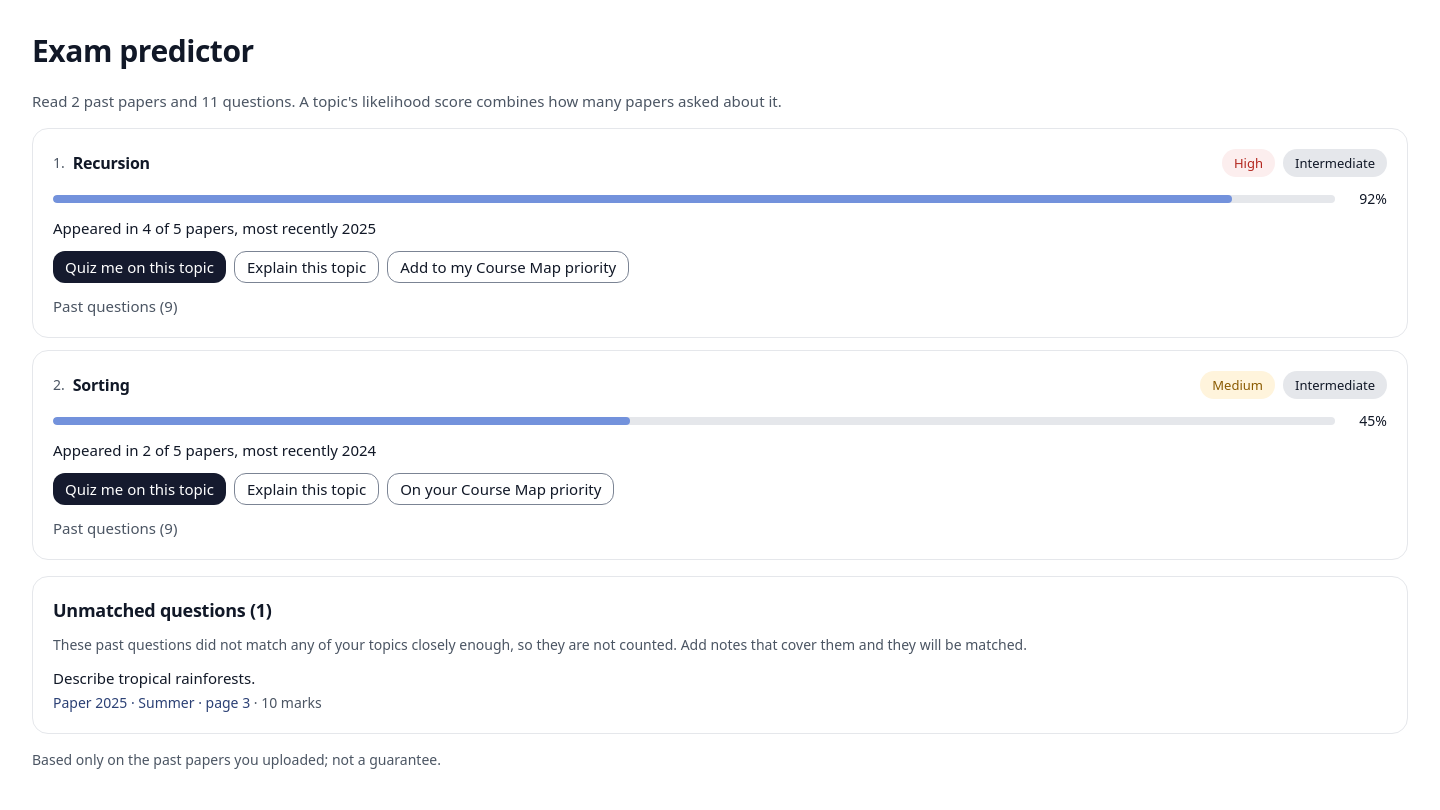
Scenario: ExamPredictorView › shows the real past questions as evidence, with a link to the paper
This screenshot has width=1440, height=810.
Click the button "Past questions (9)" below "Recursion" at (115, 306), box [53, 295, 178, 317]
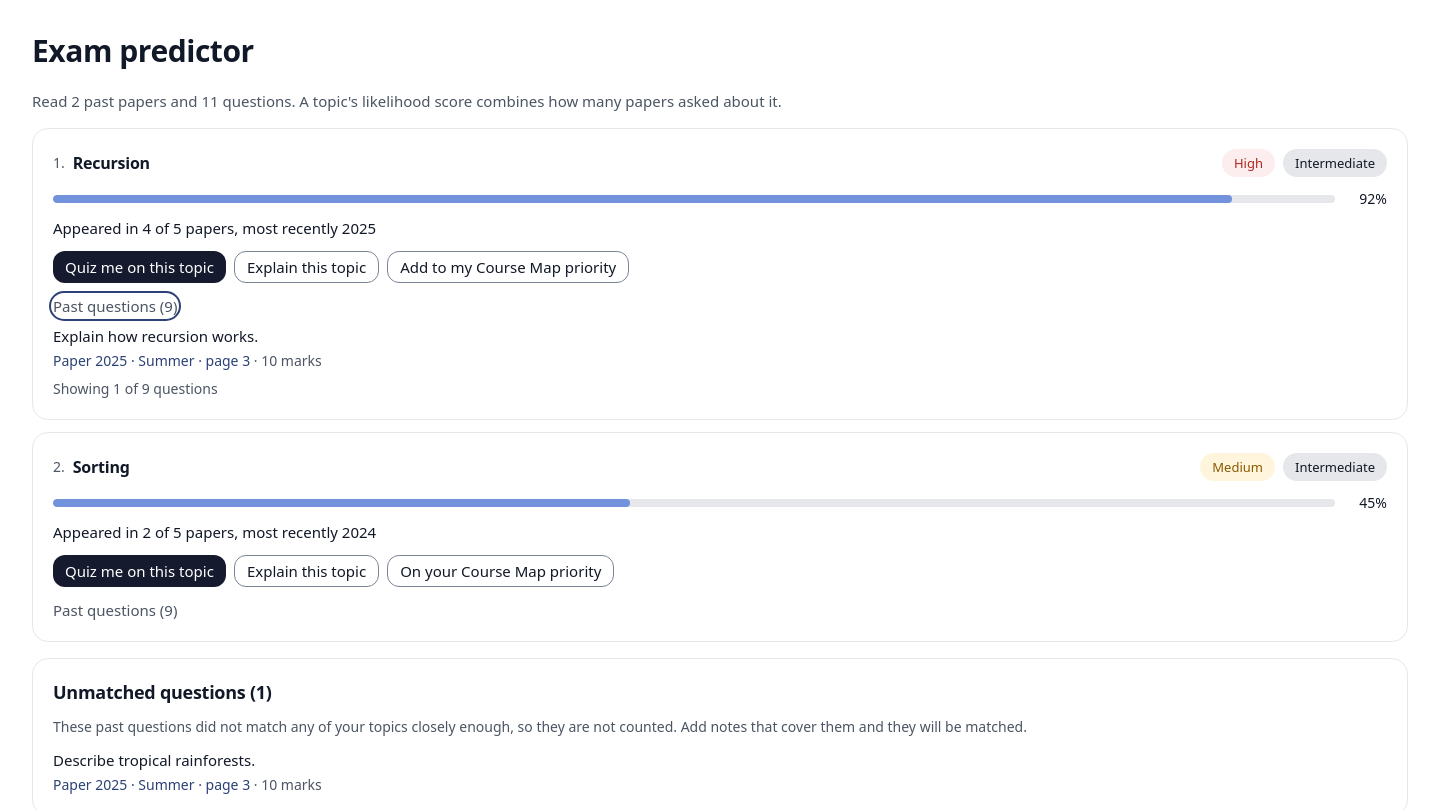
Expected: the text "Explain how recursion works." is shown, [53, 326, 258, 346]
Expected: the text "Showing 1 of 9 questions" is shown, [53, 379, 218, 398]
